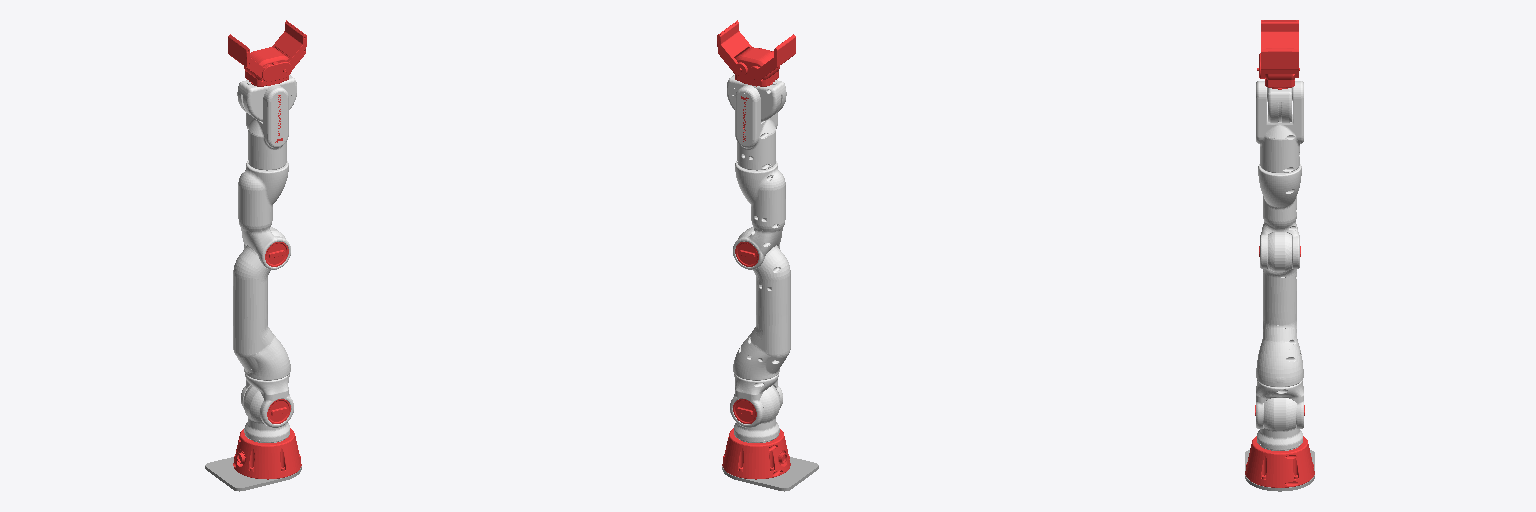
--- What the picture shows (computed from the rendered views, not written in the file) ---
The picture shows the robot from 3 angles, left to right: view 1: azimuth 30°, elevation 25°; view 2: azimuth 150°, elevation 25°; view 3: azimuth 270°, elevation 25°; orthographic projection.
Robot: crane_x7 — 21 links, 20 joints (9 revolute, 11 fixed); root link world; default pose: all joints at 0 but 2 set to mid-range because 0 is outside their limits (crane_x7_gripper_finger_a_joint = 0.8153, crane_x7_gripper_finger_b_joint = 0.8153).
Links seen in each view (by area): view 1: crane_x7_upper_arm_revolute_part_link, crane_x7_lower_arm_fixed_part_link, crane_x7_lower_arm_revolute_part_link, crane_x7_shoulder_fixed_part_link, crane_x7_shoulder_revolute_part_link, crane_x7_gripper_base_link, crane_x7_upper_arm_fixed_part_link, crane_x7_mounting_plate_link, crane_x7_wrist_link, crane_x7_gripper_finger_b_link, crane_x7_gripper_finger_a_link; view 2: crane_x7_upper_arm_revolute_part_link, crane_x7_lower_arm_fixed_part_link, crane_x7_lower_arm_revolute_part_link, crane_x7_shoulder_fixed_part_link, crane_x7_shoulder_revolute_part_link, crane_x7_upper_arm_fixed_part_link, crane_x7_mounting_plate_link, crane_x7_wrist_link, crane_x7_gripper_finger_b_link, crane_x7_gripper_base_link, crane_x7_gripper_finger_a_link; view 3: crane_x7_upper_arm_revolute_part_link, crane_x7_lower_arm_revolute_part_link, crane_x7_lower_arm_fixed_part_link, crane_x7_shoulder_fixed_part_link, crane_x7_shoulder_revolute_part_link, crane_x7_gripper_finger_a_link, crane_x7_upper_arm_fixed_part_link, crane_x7_gripper_finger_b_link, crane_x7_wrist_link.
Boxes of the visible links, bbox=[...] form: crane_x7_upper_arm_revolute_part_link: bbox=[233, 227, 290, 380]; crane_x7_lower_arm_fixed_part_link: bbox=[238, 161, 290, 269]; crane_x7_lower_arm_revolute_part_link: bbox=[246, 85, 288, 170]; crane_x7_shoulder_fixed_part_link: bbox=[233, 428, 301, 479]; crane_x7_shoulder_revolute_part_link: bbox=[243, 385, 289, 442]; crane_x7_gripper_base_link: bbox=[244, 47, 291, 86]; crane_x7_upper_arm_fixed_part_link: bbox=[241, 374, 293, 427]; crane_x7_mounting_plate_link: bbox=[205, 457, 301, 491]; crane_x7_wrist_link: bbox=[237, 75, 296, 121]; crane_x7_gripper_finger_b_link: bbox=[272, 20, 306, 69]; crane_x7_gripper_finger_a_link: bbox=[228, 34, 271, 78]; crane_x7_upper_arm_revolute_part_link: bbox=[733, 227, 790, 380]; crane_x7_lower_arm_fixed_part_link: bbox=[733, 161, 785, 269]; crane_x7_lower_arm_revolute_part_link: bbox=[735, 85, 777, 170]; crane_x7_shoulder_fixed_part_link: bbox=[722, 428, 790, 479]; crane_x7_shoulder_revolute_part_link: bbox=[734, 385, 780, 442]; crane_x7_upper_arm_fixed_part_link: bbox=[730, 374, 782, 427]; crane_x7_mounting_plate_link: bbox=[722, 457, 818, 491]; crane_x7_wrist_link: bbox=[727, 75, 786, 121]; crane_x7_gripper_finger_b_link: bbox=[717, 20, 751, 75]; crane_x7_gripper_base_link: bbox=[735, 47, 779, 86]; crane_x7_gripper_finger_a_link: bbox=[749, 34, 795, 79]; crane_x7_upper_arm_revolute_part_link: bbox=[1256, 232, 1303, 386]; crane_x7_lower_arm_revolute_part_link: bbox=[1256, 81, 1303, 172]; crane_x7_lower_arm_fixed_part_link: bbox=[1258, 164, 1301, 268]; crane_x7_shoulder_fixed_part_link: bbox=[1245, 436, 1314, 487]; crane_x7_shoulder_revolute_part_link: bbox=[1257, 398, 1302, 450]; crane_x7_gripper_finger_a_link: bbox=[1261, 20, 1298, 48]; crane_x7_upper_arm_fixed_part_link: bbox=[1256, 380, 1303, 428]; crane_x7_gripper_finger_b_link: bbox=[1261, 49, 1298, 78]; crane_x7_wrist_link: bbox=[1267, 87, 1291, 122].
Bounding box of the posed robot: 0.1309 × 0.1 × 0.6977 m (x, y, z).
Meshes: 14 distinct files referenced, 19 mesh visuals loaded (14 OBJ).

The robot description file, URDF, robot "crane_x7":
<?xml version="1.0" encoding="utf-8"?>
<!-- =================================================================================== -->
<!-- |    This document was autogenerated by xacro from crane_x7.urdf.xacro            | -->
<!-- |    EDITING THIS FILE BY HAND IS NOT RECOMMENDED                                 | -->
<!-- =================================================================================== -->
<robot name="crane_x7" xmlns:controller="http://playerstage.sourceforge.net/gazebo/xmlschema/#controller" xmlns:interface="http://playerstage.sourceforge.net/gazebo/xmlschema/#interface" xmlns:sensor="http://playerstage.sourceforge.net/gazebo/xmlschema/#sensor">
  <material name="black">
    <color rgba="0.2 0.2 0.2 1.0"/>
  </material>
  <material name="white">
    <color rgba="0.95 0.95 0.95 1.0"/>
  </material>
  <material name="silver">
    <color rgba="0.75 0.75 0.75 1.0"/>
  </material>
  <material name="red">
    <color rgba="1.0 0.3 0.3 1.0"/>
  </material>
  <material name="green">
    <color rgba="0.3 1.0 0.3 1.0"/>
  </material>
  <material name="blue">
    <color rgba="0.3 0.3 1.0 1.0"/>
  </material>
  <!-- Link to provide the location reference for the arm -->
  <link name="base_link"/>
  <!-- Used for fixing robot to Gazebo 'base_link' -->
  <link name="world"/>
  <joint name="base_link_to_world_joint" type="fixed">
    <parent link="world"/>
    <child link="base_link"/>
  </joint>
  <joint name="crane_x7_mounting_plate_joint" type="fixed">
    <origin xyz="0 0 0"/>
    <parent link="base_link"/>
    <child link="crane_x7_mounting_plate_link"/>
  </joint>
  <link name="crane_x7_mounting_plate_link">
    <visual>
      <origin rpy="0 0 0" xyz="0 0 0"/>
      <geometry>
        <mesh filename="meshes/visual/mounting_plate.obj" scale="1 1 1"/>
      </geometry>
      <material name="silver"/>
    </visual>
    <collision>
      <origin rpy="0 0 0" xyz="0 0 0"/>
      <geometry>
        <mesh filename="meshes/collision/mounting_plate.obj" scale="1 1 1"/>
      </geometry>
    </collision>
  </link>
  <!-- For gazebo simulation -->
  <gazebo reference="crane_x7_mounting_plate_link">
    <material>Gazebo/Black</material>
  </gazebo>
  <!-- crane_x7_joint_base -->
  <joint name="crane_x7_shoulder_fixed_part_mount_joint" type="fixed">
    <origin rpy="0 0 0" xyz="0 0 0.005"/>
    <parent link="crane_x7_mounting_plate_link"/>
    <child link="crane_x7_shoulder_fixed_part_link"/>
  </joint>
  <!-- crane_x7_link_base -->
  <link name="crane_x7_shoulder_fixed_part_link">
    <visual>
      <origin rpy="0 0 0" xyz="0 0 0"/>
      <geometry>
        <mesh filename="meshes/visual/base_fixed_part.obj" scale="1 1 1"/>
      </geometry>
      <material name="red"/>
    </visual>
    <collision>
      <origin rpy="0 0 0" xyz="0 0 0"/>
      <geometry>
        <mesh filename="meshes/collision/base_fixed_part.obj" scale="1 1 1"/>
      </geometry>
    </collision>
    <inertial>
      <mass value="0.388"/>
      <origin rpy="0 0 0" xyz="-6.73E-03 -1.00E-06 1.79E-02"/>
      <inertia ixx="3.25E-04" ixy="1.20E-09" ixz="-4.71E-05" iyy="4.83E-04" iyz="1.95E-08" izz="5.86E-04"/>
    </inertial>
  </link>
  <!-- crane_x7_joint_1 -->
  <joint name="crane_x7_shoulder_fixed_part_pan_joint" type="revolute">
    <origin rpy="0 0 0" xyz="0 0 0.036"/>
    <axis xyz="0 0 1"/>
    <limit effort="10.0" lower="-2.97132" upper="2.97132" velocity="4.81710873"/>
    <parent link="crane_x7_shoulder_fixed_part_link"/>
    <child link="crane_x7_shoulder_revolute_part_link"/>
    <dynamics damping="1.0e-6" friction="0"/>
  </joint>
  <!-- For gazebo simulation -->
  <transmission name="crane_x7_shoulder_fixed_part_pan_joint_trans">
    <provideFeedback>true</provideFeedback>
    <implicitSpringDamper>0</implicitSpringDamper>
    <motorTorqueConstant>0.418</motorTorqueConstant>
    <type>transmission_interface/SimpleTransmission</type>
    <joint name="crane_x7_shoulder_fixed_part_pan_joint">
      <hardwareInterface>hardware_interface/PositionJointInterface</hardwareInterface>
    </joint>
    <actuator name="crane_x7_shoulder_fixed_part_pan_joint_motor">
      <hardwareInterface>hardware_interface/PositionJointInterface</hardwareInterface>
      <mechanicalReduction>1</mechanicalReduction>
    </actuator>
  </transmission>
  <!-- crane_x7_link_1 -->
  <link name="crane_x7_shoulder_revolute_part_link">
    <visual>
      <origin rpy="0 0 3.14159" xyz="0 0 0"/>
      <geometry>
        <mesh filename="meshes/visual/base_revolute_part.obj" scale="1 1 1"/>
      </geometry>
      <material name="white"/>
    </visual>
    <collision>
      <!--<origin xyz="0 0 0" rpy="0 0 ${M_PI}"/>-->
      <!--<geometry>-->
      <!--<mesh filename="meshes/collision/base_revolute_part.obj"-->
      <!--scale="1 1 1"/>-->
      <!--</geometry>-->
      <origin rpy="0 0 0" xyz="0 0 0.0296"/>
      <geometry>
        <cylinder length="0.0295" radius="0.0334"/>
      </geometry>
    </collision>
    <collision>
      <origin rpy="1.570795 0 0" xyz="0 0 0.064"/>
      <geometry>
        <cylinder length="0.0491" radius="0.034"/>
      </geometry>
    </collision>
    <inertial>
      <mass value="0.253"/>
      <origin rpy="0 0 0" xyz="2.43e-04 -1.05E-04 4.70E-02"/>
      <inertia ixx="1.79E-04" ixy="-7.32E-08" ixz="8.89E-07" iyy="1.76E-04" iyz="6.23E-07" izz="8.96E-05"/>
    </inertial>
  </link>
  <!-- crane_x7_joint_2 -->
  <joint name="crane_x7_shoulder_revolute_part_tilt_joint" type="revolute">
    <origin rpy="0 0 0" xyz="0 0 0.064"/>
    <axis xyz="0 -1 0"/>
    <limit effort="10.0" lower="-1.570795" upper="1.570795" velocity="4.81710873"/>
    <parent link="crane_x7_shoulder_revolute_part_link"/>
    <child link="crane_x7_upper_arm_fixed_part_link"/>
    <dynamics damping="1.0e-6" friction="0"/>
  </joint>
  <!-- For gazebo simulation -->
  <transmission name="crane_x7_shoulder_revolute_part_tilt_joint_trans">
    <provideFeedback>true</provideFeedback>
    <implicitSpringDamper>0</implicitSpringDamper>
    <motorTorqueConstant>0.418</motorTorqueConstant>
    <type>transmission_interface/SimpleTransmission</type>
    <joint name="crane_x7_shoulder_revolute_part_tilt_joint">
      <hardwareInterface>hardware_interface/PositionJointInterface</hardwareInterface>
    </joint>
    <actuator name="crane_x7_shoulder_revolute_part_tilt_joint_motor">
      <hardwareInterface>hardware_interface/PositionJointInterface</hardwareInterface>
      <mechanicalReduction>1</mechanicalReduction>
    </actuator>
  </transmission>
  <!-- crane_x7_link_2 -->
  <link name="crane_x7_upper_arm_fixed_part_link">
    <visual>
      <origin rpy="1.570795 0 0" xyz="0 0 0"/>
      <geometry>
        <mesh filename="meshes/visual/rotating_link_type_1_fixed_part.obj" scale="1 1 1"/>
      </geometry>
      <material name="white"/>
    </visual>
    <collision>
      <origin rpy="1.570795 0 0" xyz="0 0 0"/>
      <geometry>
        <mesh filename="meshes/collision/rotating_link_type_1_fixed_part.obj" scale="1 1 1"/>
      </geometry>
    </collision>
    <inertial>
      <mass value="0.136"/>
      <origin rpy="1.570795 0 0" xyz="3.10E-05 1.90E-05 3.42E-02"/>
      <inertia ixx="1.68E-04" ixy="2.05E-08" ixz="-4.00E-07" iyy="9.62E-05" iyz="6.24E-08" izz="1.34E-04"/>
    </inertial>
  </link>
  <!-- crane_x7_joint_cover_2_l -->
  <joint name="crane_x7_upper_arm_fixed_part_joint_cover_l_joint" type="fixed">
    <parent link="crane_x7_upper_arm_fixed_part_link"/>
    <child link="crane_x7_upper_arm_fixed_part_joint_cover_l_link"/>
    <origin rpy="0 0 0" xyz="0 0.0316 0"/>
  </joint>
  <!-- crane_x7_link_cover_2_l -->
  <link name="crane_x7_upper_arm_fixed_part_joint_cover_l_link">
    <visual>
      <origin rpy="-1.570795 0 0" xyz="0 0 0"/>
      <geometry>
        <mesh filename="meshes/visual/joint_cover.obj" scale="1 1 1"/>
      </geometry>
      <material name="red"/>
    </visual>
  </link>
  <!-- crane_x7_joint_cover_2_r -->
  <joint name="crane_x7_upper_arm_fixed_part_joint_cover_r_joint" type="fixed">
    <parent link="crane_x7_upper_arm_fixed_part_link"/>
    <child link="crane_x7_upper_arm_fixed_part_joint_cover_r_link"/>
    <origin rpy="0 0 0" xyz="0 -0.0316 0"/>
  </joint>
  <!-- crane_x7_link_cover_2_r -->
  <link name="crane_x7_upper_arm_fixed_part_joint_cover_r_link">
    <visual>
      <origin rpy="1.570795 0 0" xyz="0 0 0"/>
      <geometry>
        <mesh filename="meshes/visual/joint_cover.obj" scale="1 1 1"/>
      </geometry>
      <material name="red"/>
    </visual>
  </link>
  <!-- crane_x7_joint_3 -->
  <joint name="crane_x7_upper_arm_revolute_part_twist_joint" type="revolute">
    <origin rpy="0 0 0" xyz="0 0 0.065"/>
    <axis xyz="0 0 1"/>
    <limit effort="4.0" lower="-1.570795" upper="1.570795" velocity="4.81710873"/>
    <parent link="crane_x7_upper_arm_fixed_part_link"/>
    <child link="crane_x7_upper_arm_revolute_part_link"/>
    <dynamics damping="1.0e-6" friction="0"/>
  </joint>
  <!-- For gazebo simulation -->
  <transmission name="crane_x7_upper_arm_revolute_part_twist_joint_trans">
    <provideFeedback>true</provideFeedback>
    <implicitSpringDamper>0</implicitSpringDamper>
    <motorTorqueConstant>0.418</motorTorqueConstant>
    <type>transmission_interface/SimpleTransmission</type>
    <joint name="crane_x7_upper_arm_revolute_part_twist_joint">
      <hardwareInterface>hardware_interface/PositionJointInterface</hardwareInterface>
    </joint>
    <actuator name="crane_x7_upper_arm_revolute_part_twist_joint_motor">
      <hardwareInterface>hardware_interface/PositionJointInterface</hardwareInterface>
      <mechanicalReduction>1</mechanicalReduction>
    </actuator>
  </transmission>
  <!-- crane_x7_link_3 -->
  <link name="crane_x7_upper_arm_revolute_part_link">
    <visual>
      <origin rpy="0 0 0" xyz="0 0 0"/>
      <geometry>
        <mesh filename="meshes/visual/rotating_link_type_1_revolute_part.obj" scale="1 1 1"/>
      </geometry>
      <material name="white"/>
    </visual>
    <collision>
      <origin rpy="0 0 0" xyz="0 0 0"/>
      <geometry>
        <mesh filename="meshes/collision/rotating_link_type_1_revolute_part.obj" scale="1 1 1"/>
      </geometry>
    </collision>
    <inertial>
      <mass value="0.321"/>
      <origin rpy="0 0 0" xyz="-1.37E-02 -8.10E-05 9.52E-02"/>
      <inertia ixx="1.82E-03" ixy="7.54E-07" ixz="-3.73E-05" iyy="1.88E-03" iyz="4.15E-06" izz="1.59E-04"/>
    </inertial>
  </link>
  <!-- crane_x7_joint_4 -->
  <joint name="crane_x7_upper_arm_revolute_part_rotate_joint" type="revolute">
    <origin rpy="0 0 0" xyz="0 0 0.185"/>
    <axis xyz="0 -1 0"/>
    <limit effort="4.0" lower="-2.80718" upper="0.04141" velocity="4.81710873"/>
    <parent link="crane_x7_upper_arm_revolute_part_link"/>
    <child link="crane_x7_lower_arm_fixed_part_link"/>
    <dynamics damping="1.0e-6" friction="0"/>
  </joint>
  <!-- For gazebo simulation -->
  <transmission name="crane_x7_upper_arm_revolute_part_rotate_joint_trans">
    <provideFeedback>true</provideFeedback>
    <implicitSpringDamper>0</implicitSpringDamper>
    <motorTorqueConstant>0.418</motorTorqueConstant>
    <type>transmission_interface/SimpleTransmission</type>
    <joint name="crane_x7_upper_arm_revolute_part_rotate_joint">
      <hardwareInterface>hardware_interface/PositionJointInterface</hardwareInterface>
    </joint>
    <actuator name="crane_x7_upper_arm_revolute_part_rotate_joint_motor">
      <hardwareInterface>hardware_interface/PositionJointInterface</hardwareInterface>
      <mechanicalReduction>1</mechanicalReduction>
    </actuator>
  </transmission>
  <!-- crane_x7_link_4 -->
  <link name="crane_x7_lower_arm_fixed_part_link">
    <visual>
      <origin rpy="1.570795 0 0" xyz="0 0 0"/>
      <geometry>
        <mesh filename="meshes/visual/rotating_link_type_2_fixed_part.obj" scale="1 1 1"/>
      </geometry>
      <material name="white"/>
    </visual>
    <collision>
      <origin rpy="1.570795 0 0" xyz="0 0 0"/>
      <geometry>
        <mesh filename="meshes/collision/rotating_link_type_2_fixed_part.obj" scale="1 1 1"/>
      </geometry>
    </collision>
    <inertial>
      <mass value="0.222"/>
      <origin rpy="1.570795 0 0" xyz="-9.39E-03 6.40E-05 8.04E-02"/>
      <inertia ixx="4.89E-04" ixy="-3.90E-06" ixz="8.29E-08" iyy="1.14E-04" iyz="2.82E-06" izz="5.03E-04"/>
    </inertial>
  </link>
  <!-- crane_x7_joint_cover_4_l -->
  <joint name="crane_x7_lower_arm_fixed_part_joint_cover_l_joint" type="fixed">
    <parent link="crane_x7_lower_arm_fixed_part_link"/>
    <child link="crane_x7_lower_arm_fixed_part_joint_cover_l_link"/>
    <origin rpy="0 0 0" xyz="0 0.025 0"/>
  </joint>
  <!-- crane_x7_link_cover_4_l -->
  <link name="crane_x7_lower_arm_fixed_part_joint_cover_l_link">
    <visual>
      <origin rpy="-1.570795 0 0" xyz="0 0 0"/>
      <geometry>
        <mesh filename="meshes/visual/joint_cover.obj" scale="1 1 1"/>
      </geometry>
      <material name="red"/>
    </visual>
  </link>
  <!-- crane_x7_joint_cover_4_r -->
  <joint name="crane_x7_lower_arm_fixed_part_joint_cover_r_joint" type="fixed">
    <parent link="crane_x7_lower_arm_fixed_part_link"/>
    <child link="crane_x7_lower_arm_fixed_part_joint_cover_r_link"/>
    <origin rpy="0 0 0" xyz="0 -0.025 0"/>
  </joint>
  <!-- crane_x7_link_cover_4_r -->
  <link name="crane_x7_lower_arm_fixed_part_joint_cover_r_link">
    <visual>
      <origin rpy="1.570795 0 0" xyz="0 0 0"/>
      <geometry>
        <mesh filename="meshes/visual/joint_cover.obj" scale="1 1 1"/>
      </geometry>
      <material name="red"/>
    </visual>
  </link>
  <!-- crane_x7_joint_5 -->
  <joint name="crane_x7_lower_arm_fixed_part_joint" type="revolute">
    <origin rpy="0 0 0" xyz="0 0 0.121"/>
    <axis xyz="0 0 1"/>
    <limit effort="4.0" lower="-2.77343" upper="1.51403" velocity="4.81710873"/>
    <parent link="crane_x7_lower_arm_fixed_part_link"/>
    <child link="crane_x7_lower_arm_revolute_part_link"/>
    <dynamics damping="1.0e-6" friction="0"/>
  </joint>
  <!-- For gazebo simulation -->
  <transmission name="crane_x7_lower_arm_fixed_part_joint_trans">
    <provideFeedback>true</provideFeedback>
    <implicitSpringDamper>0</implicitSpringDamper>
    <motorTorqueConstant>0.418</motorTorqueConstant>
    <type>transmission_interface/SimpleTransmission</type>
    <joint name="crane_x7_lower_arm_fixed_part_joint">
      <hardwareInterface>hardware_interface/PositionJointInterface</hardwareInterface>
    </joint>
    <actuator name="crane_x7_lower_arm_fixed_part_joint_motor">
      <hardwareInterface>hardware_interface/PositionJointInterface</hardwareInterface>
      <mechanicalReduction>1</mechanicalReduction>
    </actuator>
  </transmission>
  <!-- crane_x7_link_5 -->
  <link name="crane_x7_lower_arm_revolute_part_link">
    <visual>
      <origin rpy="0 0 0" xyz="0 0 0"/>
      <geometry>
        <mesh filename="meshes/visual/rotating_link_type_2_revolute_part.obj" scale="1 1 1"/>
      </geometry>
      <material name="white"/>
    </visual>
    <collision>
      <origin rpy="0 0 0" xyz="0 0 0"/>
      <geometry>
        <mesh filename="meshes/collision/rotating_link_type_2_revolute_part.obj" scale="1 1 1"/>
      </geometry>
    </collision>
    <inertial>
      <mass value="0.207"/>
      <origin rpy="0 0 0" xyz="-8.40E-05 4.62E-04 6.37E-02"/>
      <inertia ixx="2.90E-04" ixy="1.00E-07" ixz="-4.77E-07" iyy="2.57E-04" iyz="-1.69E-05" izz="8.75E-05"/>
    </inertial>
  </link>
  <!-- Left side logo text -->
  <link name="crane_x7_lower_arm_revolute_part_logo_text_l_link">
    <visual>
      <origin rpy="-1.570795 1.570795 0" xyz="0 0 0"/>
      <geometry>
        <mesh filename="meshes/visual/rtcorp_logo_name.obj" scale="1 1 1"/>
      </geometry>
      <material name="logo_red">
        <color rgba="1.0 0.3 0.3 1.0"/>
      </material>
    </visual>
  </link>
  <joint name="crane_x7_lower_arm_revolute_part_logo_text_l_joint" type="fixed">
    <parent link="crane_x7_lower_arm_revolute_part_link"/>
    <child link="crane_x7_lower_arm_revolute_part_logo_text_l_link"/>
    <origin rpy="0 0 0" xyz="0 0.0345 0.095"/>
  </joint>
  <!-- Left side logo symbol -->
  <link name="crane_x7_lower_arm_revolute_part_logo_symbol_l_link">
    <visual>
      <origin rpy="-1.570795 1.570795 0" xyz="0 0 0"/>
      <geometry>
        <mesh filename="meshes/visual/rtcorp_logo_rabbit.obj" scale="1 1 1"/>
      </geometry>
      <material name="logo_red"/>
    </visual>
  </link>
  <joint name="crane_x7_lower_arm_revolute_part_logo_symbol_l_joint" type="fixed">
    <parent link="crane_x7_lower_arm_revolute_part_link"/>
    <child link="crane_x7_lower_arm_revolute_part_logo_symbol_l_link"/>
    <origin rpy="0 0 0" xyz="0 0.0345 0.132"/>
  </joint>
  <!-- Right side logo text -->
  <link name="crane_x7_lower_arm_revolute_part_logo_text_r_link">
    <visual>
      <origin rpy="1.570795 -1.570795 0" xyz="0 0 0"/>
      <geometry>
        <mesh filename="meshes/visual/rtcorp_logo_name.obj" scale="1 1 1"/>
      </geometry>
      <material name="logo_red"/>
    </visual>
  </link>
  <joint name="crane_x7_lower_arm_revolute_part_logo_text_r_joint" type="fixed">
    <parent link="crane_x7_lower_arm_revolute_part_link"/>
    <child link="crane_x7_lower_arm_revolute_part_logo_text_r_link"/>
    <origin rpy="0 0 0" xyz="0 -0.0345 0.104"/>
  </joint>
  <!-- Right side logo symbol -->
  <link name="crane_x7_lower_arm_revolute_part_logo_symbol_r_link">
    <visual>
      <origin rpy="1.570795 -1.570795 0" xyz="0 0 0"/>
      <geometry>
        <mesh filename="meshes/visual/rtcorp_logo_rabbit.obj" scale="1 1 1"/>
      </geometry>
      <material name="logo_red"/>
    </visual>
  </link>
  <joint name="crane_x7_lower_arm_revolute_part_logo_symbol_r_joint" type="fixed">
    <parent link="crane_x7_lower_arm_revolute_part_link"/>
    <child link="crane_x7_lower_arm_revolute_part_logo_symbol_r_link"/>
    <origin rpy="0 0 0" xyz="0 -0.0345 0.065"/>
  </joint>
  <!-- For gazebo simulation -->
  <gazebo reference="crane_x7_lower_arm_revolute_part_logo_symbol_r_link">
    <material>Gazebo/Red</material>
  </gazebo>
  <gazebo reference="crane_x7_lower_arm_revolute_part_logo_symbol_l_link">
    <material>Gazebo/Red</material>
  </gazebo>
  <gazebo reference="crane_x7_lower_arm_revolute_part_logo_text_r_link">
    <material>Gazebo/Black</material>
  </gazebo>
  <gazebo reference="crane_x7_lower_arm_revolute_part_logo_text_l_link">
    <material>Gazebo/Black</material>
  </gazebo>
  <!-- crane_x7_joint_6 -->
  <joint name="crane_x7_lower_arm_revolute_part_joint" type="revolute">
    <origin rpy="0 0 0" xyz="0 0 0.129"/>
    <axis xyz="0 -1 0"/>
    <limit effort="4.0" lower="-1.570795" upper="1.570795" velocity="4.81710873"/>
    <parent link="crane_x7_lower_arm_revolute_part_link"/>
    <child link="crane_x7_wrist_link"/>
    <dynamics damping="1.0e-6" friction="0"/>
  </joint>
  <!-- For gazebo simulation -->
  <transmission name="crane_x7_lower_arm_revolute_part_joint_trans">
    <provideFeedback>true</provideFeedback>
    <implicitSpringDamper>0</implicitSpringDamper>
    <motorTorqueConstant>0.418</motorTorqueConstant>
    <type>transmission_interface/SimpleTransmission</type>
    <joint name="crane_x7_lower_arm_revolute_part_joint">
      <hardwareInterface>hardware_interface/PositionJointInterface</hardwareInterface>
    </joint>
    <actuator name="crane_x7_lower_arm_revolute_part_joint_motor">
      <hardwareInterface>hardware_interface/PositionJointInterface</hardwareInterface>
      <mechanicalReduction>1</mechanicalReduction>
    </actuator>
  </transmission>
  <!-- crane_x7_link_6 -->
  <link name="crane_x7_wrist_link">
    <visual>
      <origin rpy="1.570795 0 0" xyz="0 0 0"/>
      <geometry>
        <mesh filename="meshes/visual/wrist.obj" scale="1 1 1"/>
      </geometry>
      <material name="white"/>
    </visual>
    <collision>
      <origin rpy="1.570795 0 0" xyz="0 0 0"/>
      <geometry>
        <mesh filename="meshes/collision/wrist.obj" scale="1 1 1"/>
      </geometry>
    </collision>
    <inertial>
      <mass value="0.14"/>
      <origin rpy="1.570795 0 0" xyz="6.10E-03 8.26E-04 -3.55E-03"/>
      <inertia ixx="4.01E-05" ixy="-2.91E-06" ixz="6.39E-07" iyy="6.13E-05" iyz="-4.90E-07" izz="7.35E-05"/>
    </inertial>
  </link>
  <!-- crane_x7_joint_7 -->
  <joint name="crane_x7_wrist_joint" type="revolute">
    <origin rpy="0 0 0" xyz="0 0 0.019"/>
    <axis xyz="0 0 1"/>
    <limit effort="4.0" lower="-2.96365" upper="2.97132" velocity="4.81710873"/>
    <parent link="crane_x7_wrist_link"/>
    <child link="crane_x7_gripper_base_link"/>
    <dynamics damping="1.0e-6" friction="0"/>
  </joint>
  <!-- For gazebo simulation -->
  <transmission name="crane_x7_wrist_joint_trans">
    <provideFeedback>true</provideFeedback>
    <implicitSpringDamper>0</implicitSpringDamper>
    <motorTorqueConstant>0.418</motorTorqueConstant>
    <type>transmission_interface/SimpleTransmission</type>
    <joint name="crane_x7_wrist_joint">
      <hardwareInterface>hardware_interface/PositionJointInterface</hardwareInterface>
    </joint>
    <actuator name="crane_x7_wrist_joint_motor">
      <hardwareInterface>hardware_interface/PositionJointInterface</hardwareInterface>
      <mechanicalReduction>1</mechanicalReduction>
    </actuator>
  </transmission>
  <gazebo>
    <plugin filename="libgazebo_ros_control.so" name="gazebo_ros_control">
      <robotNamespace>/crane_x7</robotNamespace>
      <robotSimType>gazebo_ros_control/DefaultRobotHWSim</robotSimType>
      <legacyModeNS>false</legacyModeNS>
    </plugin>
  </gazebo>
  <gazebo reference="crane_x7_shoulder_fixed_part_link">
    <material>Gazebo/Red</material>
  </gazebo>
  <gazebo reference="crane_x7_shoulder_revolute_part_link">
    <material>Gazebo/White</material>
  </gazebo>
  <gazebo reference="crane_x7_upper_arm_fixed_part_link">
    <material>Gazebo/White</material>
  </gazebo>
  <gazebo reference="crane_x7_upper_arm_revolute_part_link">
    <material>Gazebo/White</material>
  </gazebo>
  <gazebo reference="crane_x7_lower_arm_fixed_part_link">
    <material>Gazebo/White</material>
  </gazebo>
  <gazebo reference="crane_x7_lower_arm_revolute_part_link">
    <material>Gazebo/White</material>
  </gazebo>
  <gazebo reference="crane_x7_wrist_link">
    <material>Gazebo/White</material>
  </gazebo>
  <gazebo reference="crane_x7_upper_arm_fixed_part_joint_cover_l_link">
    <material>Gazebo/Red</material>
  </gazebo>
  <gazebo reference="crane_x7_upper_arm_fixed_part_joint_cover_r_link">
    <material>Gazebo/Red</material>
  </gazebo>
  <gazebo reference="crane_x7_lower_arm_fixed_part_joint_cover_l_link">
    <material>Gazebo/Red</material>
  </gazebo>
  <gazebo reference="crane_x7_lower_arm_fixed_part_joint_cover_r_link">
    <material>Gazebo/Red</material>
  </gazebo>
  <link name="crane_x7_gripper_base_link">
    <visual>
      <origin rpy="0 0 0" xyz="0 0 0"/>
      <geometry>
        <mesh filename="meshes/visual/wide_two_finger_gripper_actuator.obj" scale="1 1 1"/>
      </geometry>
      <material name="red"/>
    </visual>
    <collision>
      <origin rpy="0 0 0" xyz="0 0 0"/>
      <geometry>
        <mesh filename="meshes/collision/wide_two_finger_gripper_actuator.obj" scale="1 1 1"/>
      </geometry>
    </collision>
    <inertial>
      <mass value="0.121"/>
      <origin rpy="0 0 0" xyz="1.08E-04 -1.03E-03 2.08E-02"/>
      <inertia ixx="3.20E-05" ixy="-9.45E-08" ixz="2.61E-07" iyy="4.14E-05" iyz="3.88E-07" izz="4.29E-05"/>
    </inertial>
  </link>
  <joint name="crane_x7_gripper_finger_a_joint" type="revolute">
    <origin rpy="0 0 0" xyz="-0.012 0.0 0.024"/>
    <axis xyz="0 -1 0"/>
    <limit effort="4.0" lower="0.0046" upper="1.62601" velocity="4.81710873"/>
    <parent link="crane_x7_gripper_base_link"/>
    <child link="crane_x7_gripper_finger_a_link"/>
    <dynamics damping="1.0e-6" friction="0"/>
  </joint>
  <!-- for gazebo -->
  <transmission name="crane_x7_gripper_finger_a_joint_trans">
    <provideFeedback>true</provideFeedback>
    <implicitSpringDamper>0</implicitSpringDamper>
    <motorTorqueConstant>0.418</motorTorqueConstant>
    <type>transmission_interface/SimpleTransmission</type>
    <joint name="crane_x7_gripper_finger_a_joint">
      <hardwareInterface>hardware_interface/EffortJointInterface</hardwareInterface>
    </joint>
    <actuator name="crane_x7_gripper_finger_a_joint_motor">
      <hardwareInterface>hardware_interface/EffortJointInterface</hardwareInterface>
      <mechanicalReduction>1</mechanicalReduction>
    </actuator>
  </transmission>
  <link name="crane_x7_gripper_finger_a_link">
    <visual>
      <origin rpy="1.570795 0 0" xyz="0 0 0"/>
      <geometry>
        <mesh filename="meshes/visual/wide_two_finger_gripper_finger_a.obj" scale="1 1 1"/>
      </geometry>
      <material name="red"/>
    </visual>
    <collision>
      <origin rpy="1.570795 0 0" xyz="0 0 0"/>
      <geometry>
        <mesh filename="meshes/collision/wide_two_finger_gripper_finger_a.obj" scale="1 1 1"/>
      </geometry>
    </collision>
    <inertial>
      <mass value="0.0158"/>
      <origin rpy="1.570795 0 0" xyz="-2.65E-03 3.54E-03 2.69E-02"/>
      <inertia ixx="1.01E-05" ixy="-1.97E-07" ixz="-9.89E-08" iyy="4.95E-06" iyz="5.37E-07" izz="6.24E-06"/>
    </inertial>
  </link>
  <joint name="crane_x7_gripper_finger_b_joint" type="revolute">
    <origin rpy="0 0 0" xyz="0.012 0.0 0.024"/>
    <axis xyz="0 1 0"/>
    <limit effort="4.0" lower="0.0046" upper="1.62601" velocity="4.81710873"/>
    <parent link="crane_x7_gripper_base_link"/>
    <child link="crane_x7_gripper_finger_b_link"/>
    <!-- <mimic joint="crane_x7_gripper_finger_a_joint"/> -->
    <dynamics damping="1.0e-6" friction="0"/>
  </joint>
  <link name="crane_x7_gripper_finger_b_link">
    <visual>
      <origin rpy="1.570795 0 0" xyz="0 0 0"/>
      <geometry>
        <mesh filename="meshes/visual/wide_two_finger_gripper_finger_b.obj" scale="1 1 1"/>
      </geometry>
      <material name="red"/>
    </visual>
    <collision>
      <origin rpy="1.570795 0 0" xyz="0 0 0"/>
      <geometry>
        <mesh filename="meshes/collision/wide_two_finger_gripper_finger_b.obj" scale="1 1 1"/>
      </geometry>
    </collision>
    <inertial>
      <mass value="0.0139"/>
      <origin rpy="1.570795 0 0" xyz="3.01E-03 2.85E-03 3.09E-02"/>
      <inertia ixx="7.48E-06" ixy="3.61E-07" ixz="6.34E-08" iyy="4.09E-06" iyz="2.28E-07" izz="4.37E-06"/>
    </inertial>
  </link>
  <!-- For Drake simulation -->
  <transmission name="crane_x7_gripper_finger_a_joint_trans">
    <provideFeedback>true</provideFeedback>
    <implicitSpringDamper>0</implicitSpringDamper>
    <motorTorqueConstant>0.418</motorTorqueConstant>
    <type>transmission_interface/SimpleTransmission</type>
    <joint name="crane_x7_gripper_finger_b_joint">
      <hardwareInterface>hardware_interface/EffortJointInterface</hardwareInterface>
    </joint>
    <actuator name="crane_x7_gripper_finger_b_joint_motor">
      <hardwareInterface>hardware_interface/EffortJointInterface</hardwareInterface>
      <mechanicalReduction>1</mechanicalReduction>
    </actuator>
  </transmission>
  <!-- For gazebo simulation -->
  <!-- <gazebo>
    <plugin filename="libroboticsgroup_gazebo_mimic_joint_plugin.so" name="crane_x7_gripper_mimic_joint">
      <joint>crane_x7_gripper_finger_a_joint</joint>
      <mimicJoint>crane_x7_gripper_finger_b_joint</mimicJoint>
      <multiplier>1</multiplier>
    </plugin>
  </gazebo> -->
  <gazebo reference="crane_x7_gripper_base_link">
    <material>Gazebo/Red</material>
  </gazebo>
  <gazebo reference="crane_x7_gripper_finger_a_link">
    <mu1>0.8</mu1>
    <mu2>0.8</mu2>
    <material>Gazebo/Red</material>
  </gazebo>
  <gazebo reference="crane_x7_gripper_finger_b_link">
    <mu1>0.8</mu1>
    <mu2>0.8</mu2>
    <material>Gazebo/Red</material>
  </gazebo>
</robot>
